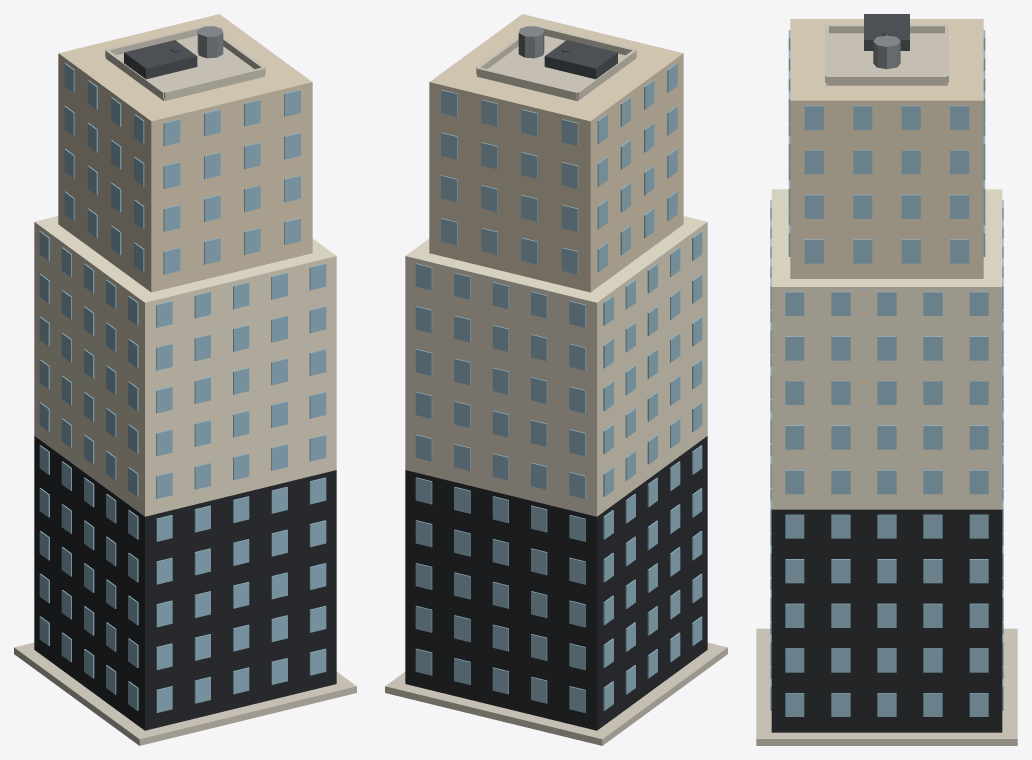
File: building.skyscraper-tapered.glb
The picture shows the model from 3 angles, left to right: view 1: azimuth 30°, elevation 25°; view 2: azimuth 150°, elevation 25°; view 3: azimuth 270°, elevation 25°; orthographic projection. The views are drawn at different scales.
Visible parts, largest first — view 1: building.skyscraper-tapered; view 2: building.skyscraper-tapered; view 3: building.skyscraper-tapered.
Part boxes in pixels (x1,y1,x2,y2): building.skyscraper-tapered: [14, 14, 356, 745]; building.skyscraper-tapered: [385, 14, 727, 745]; building.skyscraper-tapered: [756, 14, 1017, 745].
Bounding box in the file's own units: 17 × 47.55 × 17.
